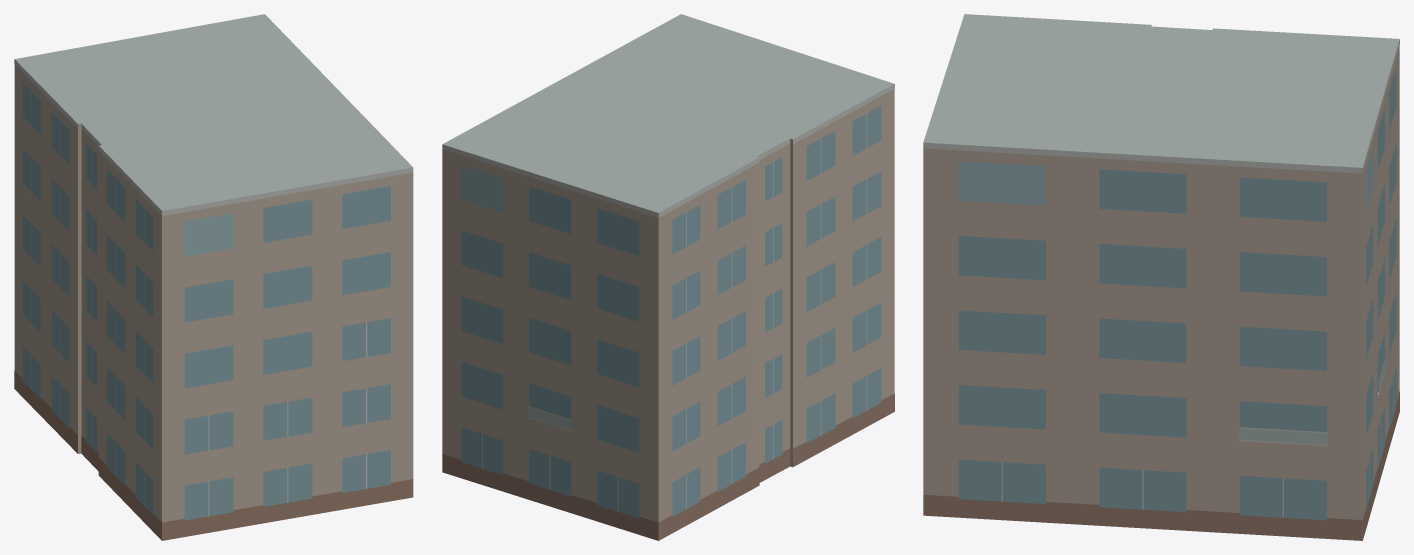
The model's file is survey-upis-32978792.glb.
3 renders of one model, left to right at view 1: azimuth 30°, elevation 25°; view 2: azimuth 150°, elevation 25°; view 3: azimuth 270°, elevation 25°, orthographic. The views are drawn at different scales.
Visible parts, largest first — view 1: survey-upis-32978792.tmp; view 2: survey-upis-32978792.tmp; view 3: survey-upis-32978792.tmp.
Boxes of the visible parts, bbox=[...] form: survey-upis-32978792.tmp: bbox=[14, 14, 413, 540]; survey-upis-32978792.tmp: bbox=[442, 14, 894, 540]; survey-upis-32978792.tmp: bbox=[923, 14, 1399, 540].
Bounding box in the file's own units: 14.17 × 16 × 18.54.
